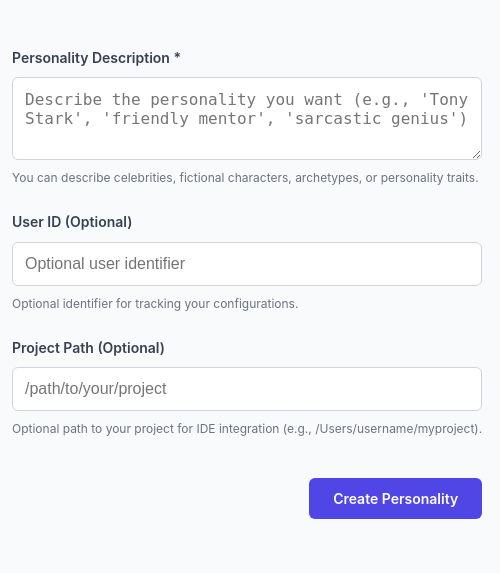
PersonalityForm › shows validation error for empty description
This screenshot has width=500, height=573.
Click the button "Create Personality".
click(396, 499)  # box x1=309 y1=478 x2=482 y2=519
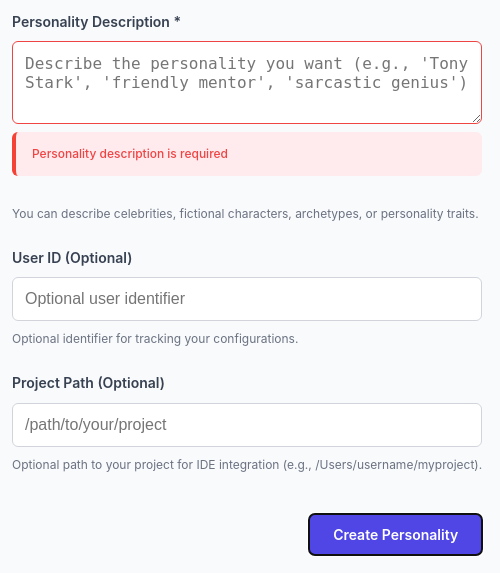
Expected: the text "Personality description is required" is shown, x1=12 y1=132 x2=482 y2=176
